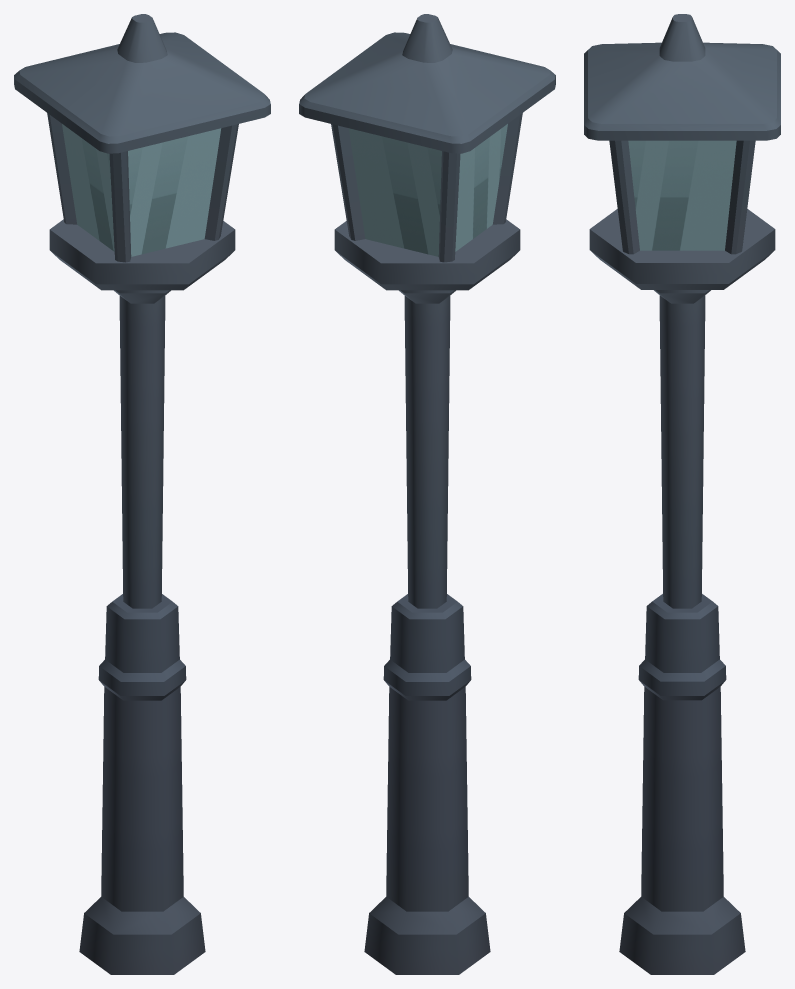
The model's file is StreetLamp_3_C.fbx.
3 renders of one model, left to right at view 1: azimuth 30°, elevation 25°; view 2: azimuth 150°, elevation 25°; view 3: azimuth 270°, elevation 25°, orthographic.
Parts seen in each view (by area): view 1: StreetLamp_3_C; view 2: StreetLamp_3_C; view 3: StreetLamp_3_C.
Boxes of the visible parts, left/top/right/bottom form: StreetLamp_3_C: left=14, top=14, right=270, bottom=974; StreetLamp_3_C: left=299, top=14, right=555, bottom=974; StreetLamp_3_C: left=584, top=14, right=780, bottom=974.
Size of the model in its own units: 74.08 by 388 by 74.08.
